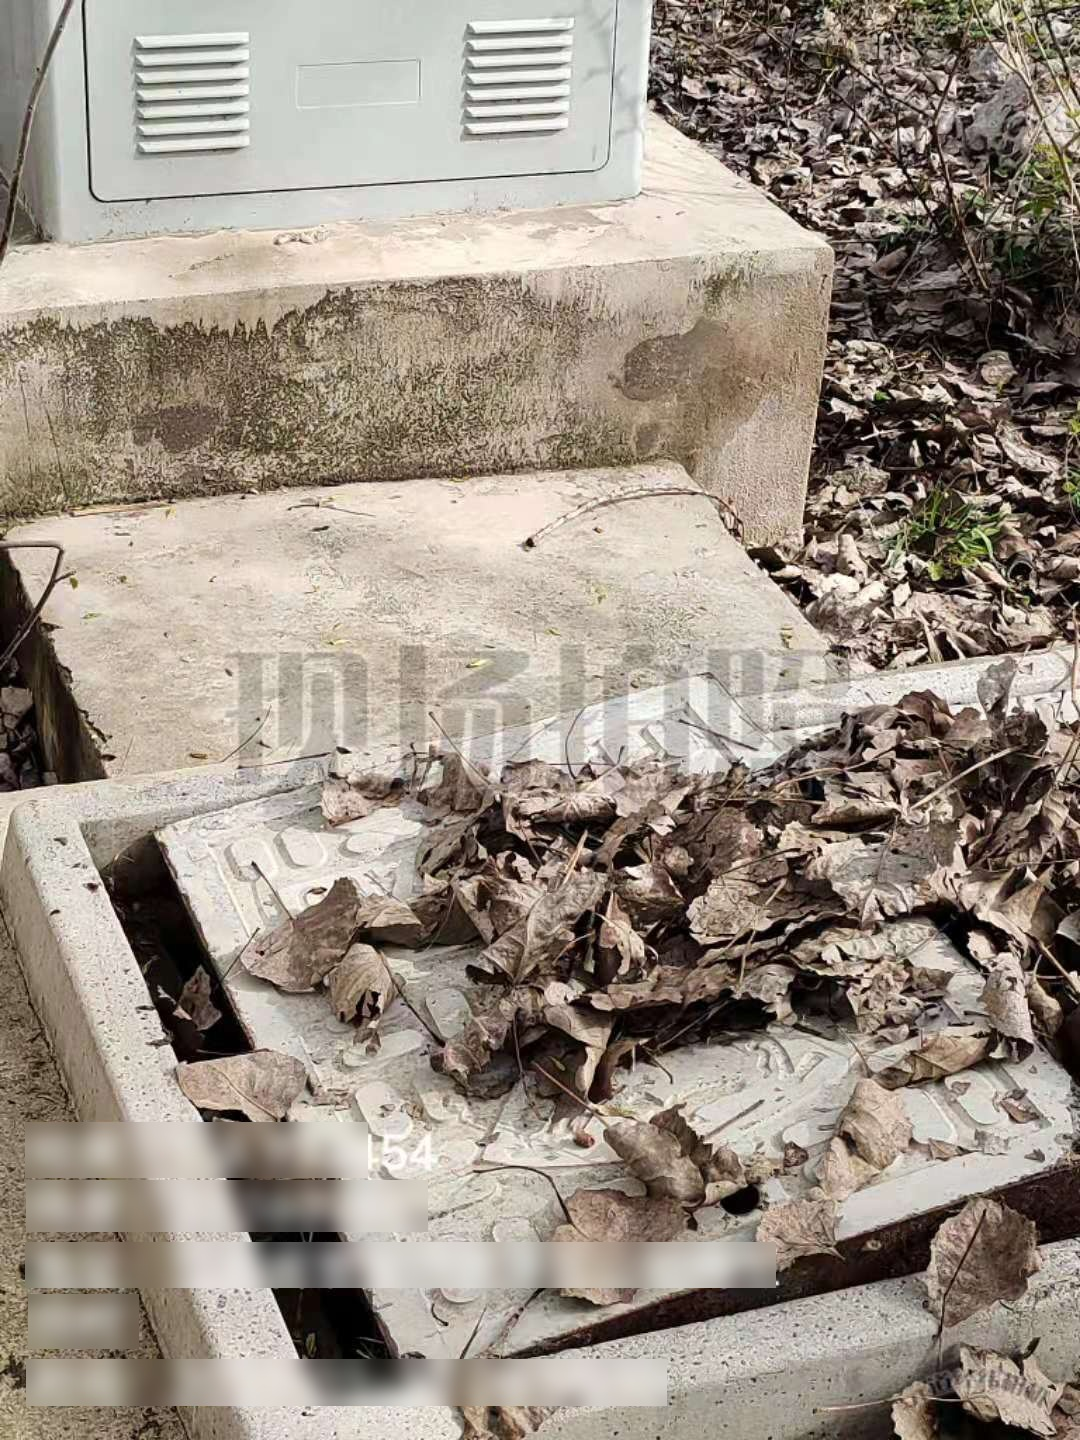uncovered: (17, 650, 1065, 1440)
